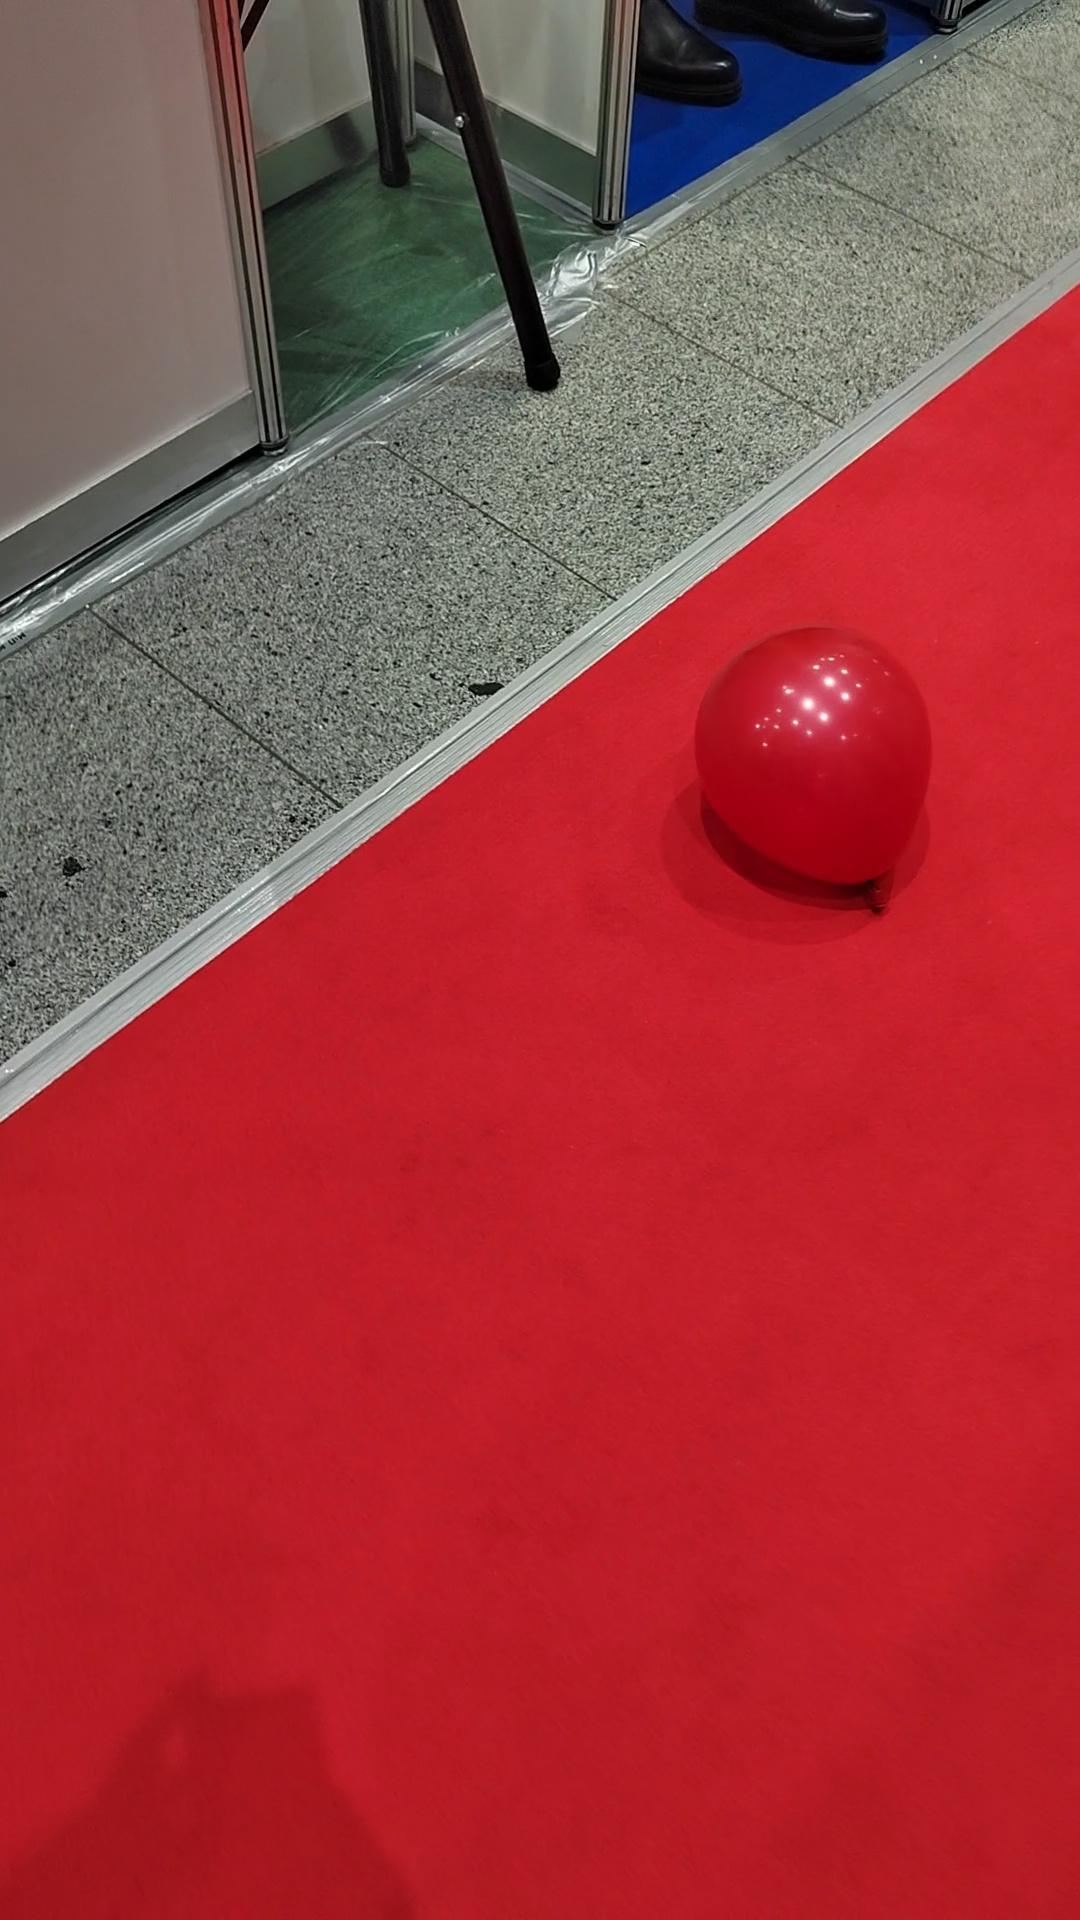red: (694, 622, 931, 887)
